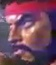ryu: (6, 0, 54, 64)
